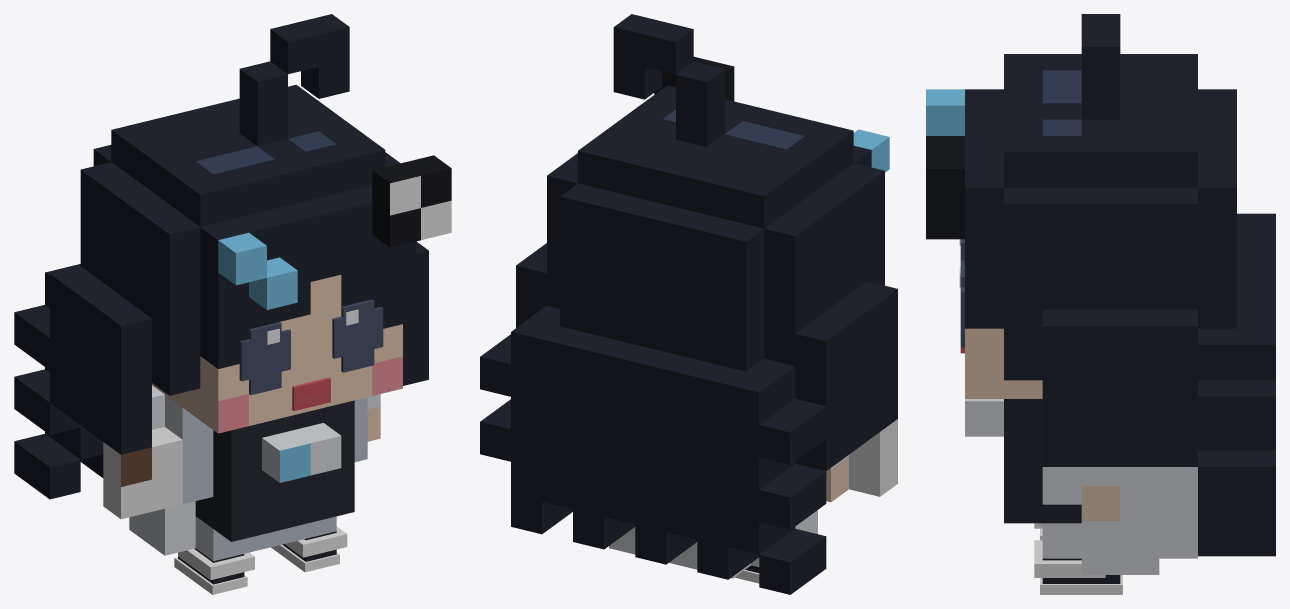
File: glm.glb
The picture shows the model from 3 angles, left to right: view 1: azimuth 30°, elevation 25°; view 2: azimuth 150°, elevation 25°; view 3: azimuth 270°, elevation 25°; orthographic projection. The views are drawn at different scales.
Parts seen in each view (by area): view 1: head, body, hairback, armB, face_open, face_happy, footB, footA, armA; view 2: head, hairback, armB, body; view 3: head, hairback, body, footA, armA.
Part boxes in pixels (x1,y1,x2,y2): head: [50, 14, 451, 454]; body: [129, 395, 367, 561]; hairback: [14, 264, 103, 499]; armB: [103, 385, 182, 519]; face_open: [249, 299, 374, 395]; face_happy: [239, 306, 383, 410]; footB: [174, 548, 254, 594]; footA: [271, 526, 347, 572]; armA: [367, 394, 380, 441]; head: [516, 14, 897, 470]; hairback: [480, 305, 826, 594]; armB: [826, 419, 897, 502]; body: [609, 510, 817, 578]; head: [926, 14, 1236, 466]; hairback: [1198, 213, 1275, 556]; body: [965, 399, 1197, 574]; footA: [1034, 540, 1122, 594]; armA: [1081, 467, 1120, 520].
Bounding box in the file's own units: 0.7 × 1.12 × 0.63.
